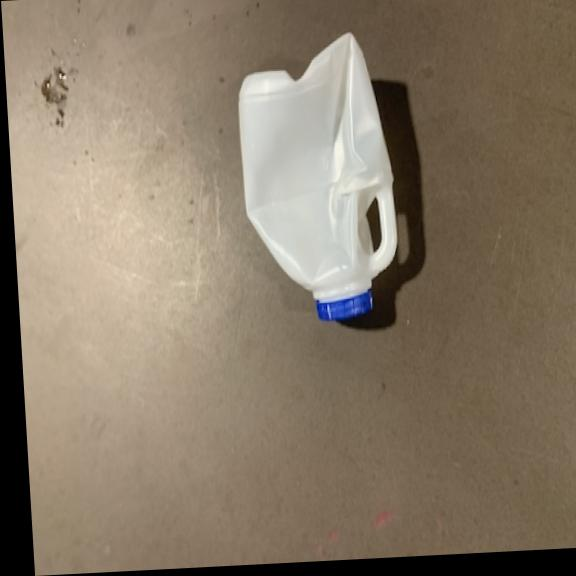Plastik: (231, 28, 404, 332)
